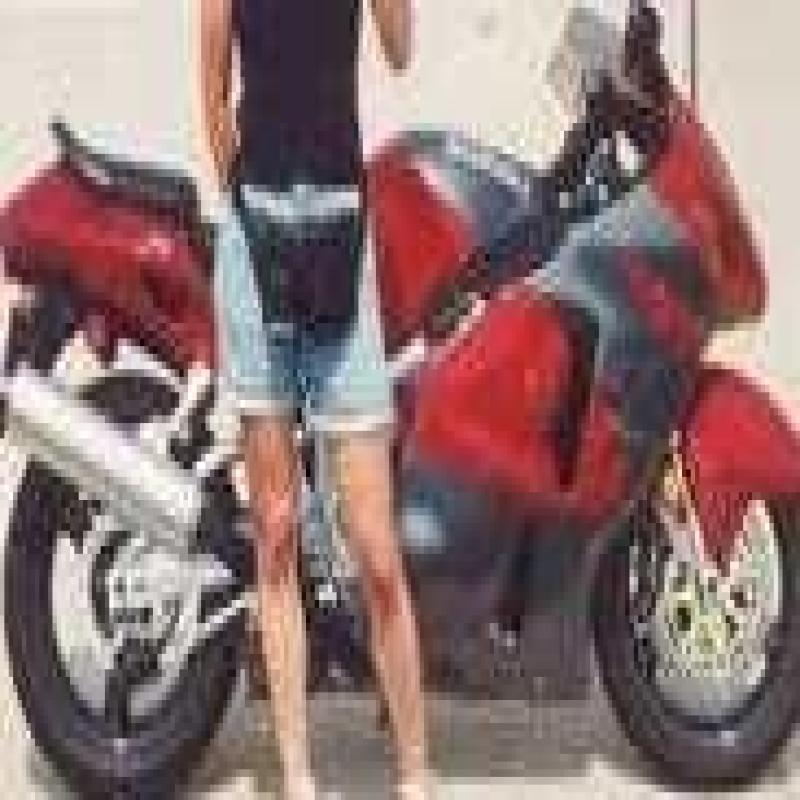bike: (0, 63, 800, 800)
